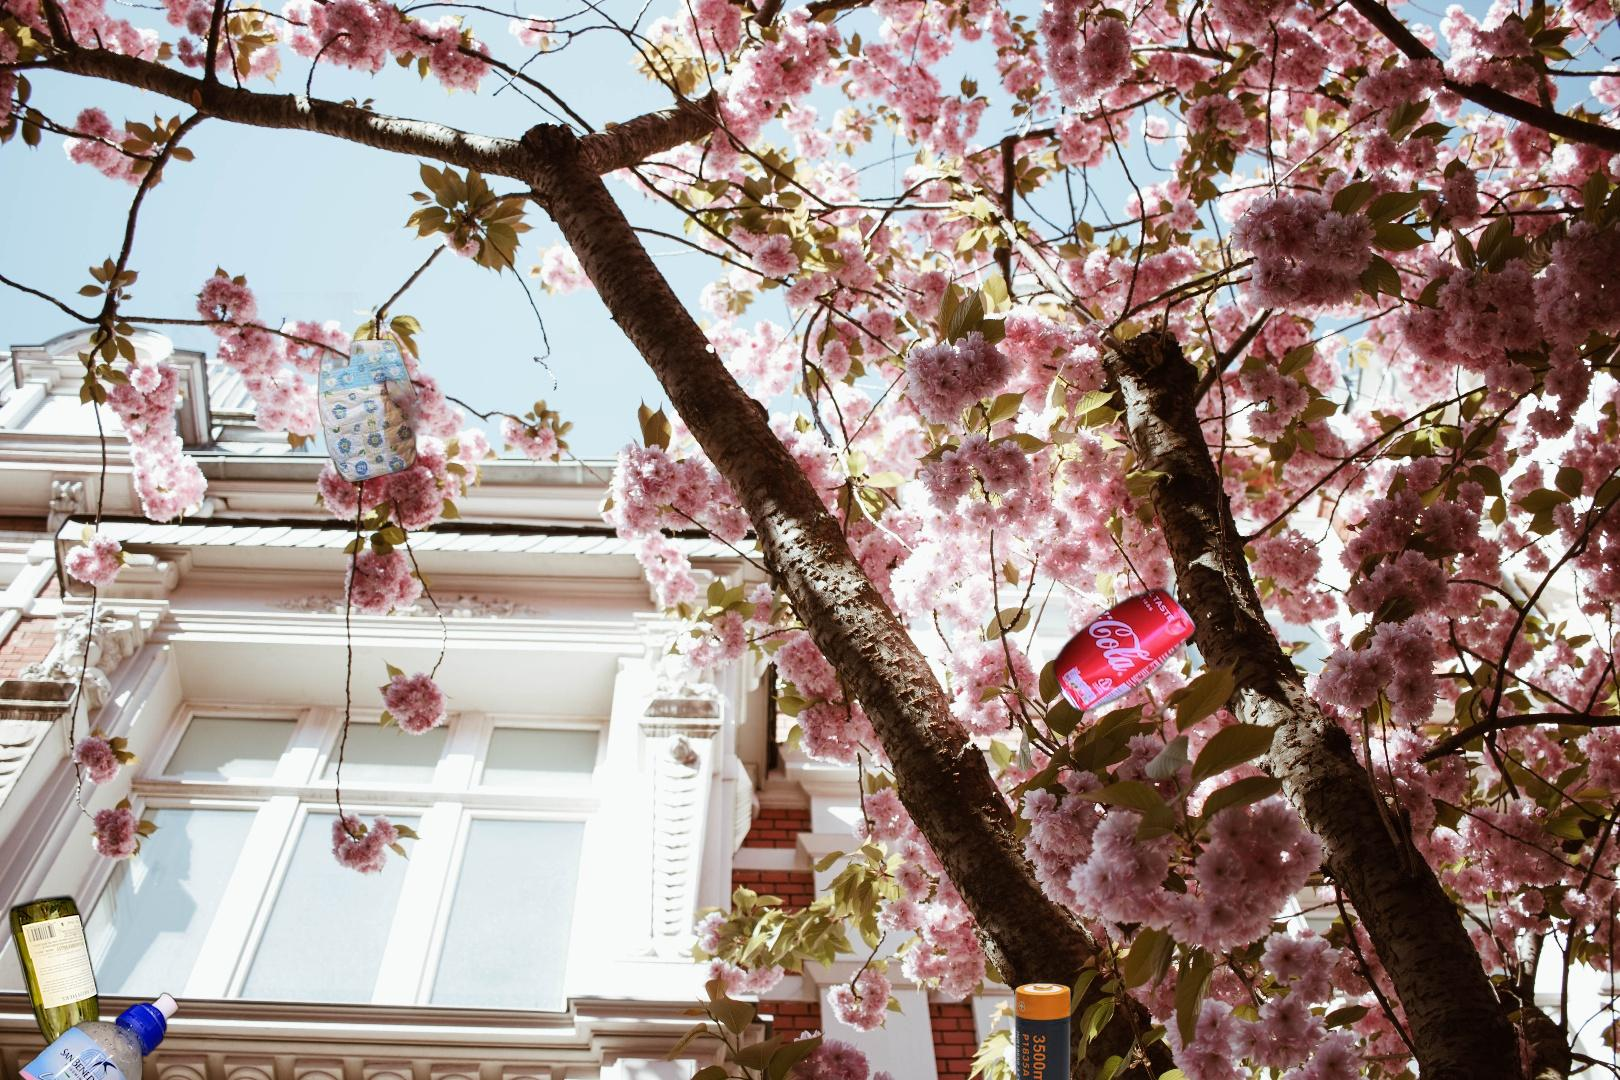battery: (1012, 980, 1074, 1080)
glass: (5, 890, 116, 1080)
metal-cans: (1047, 582, 1201, 720)
plastic-bottles: (14, 990, 181, 1080)
trash: (166, 292, 429, 485)
